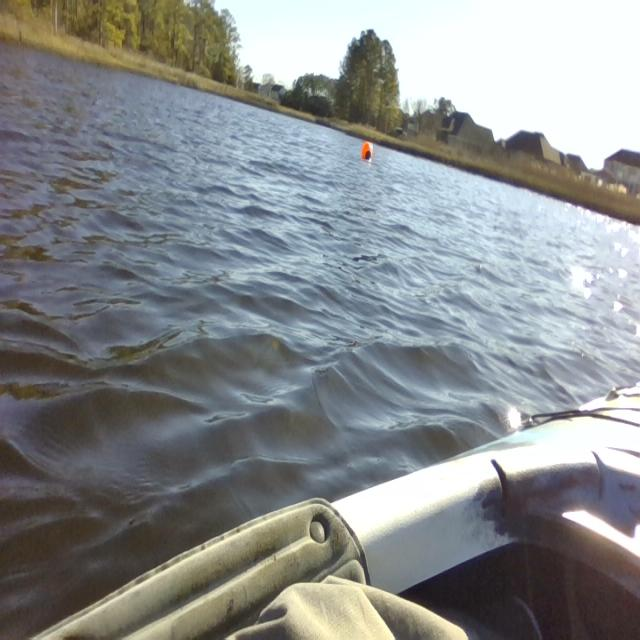Buoy: (359, 136, 376, 166)
